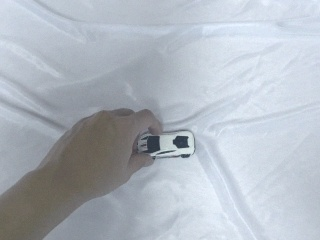toy_car: (134, 129, 195, 159)
